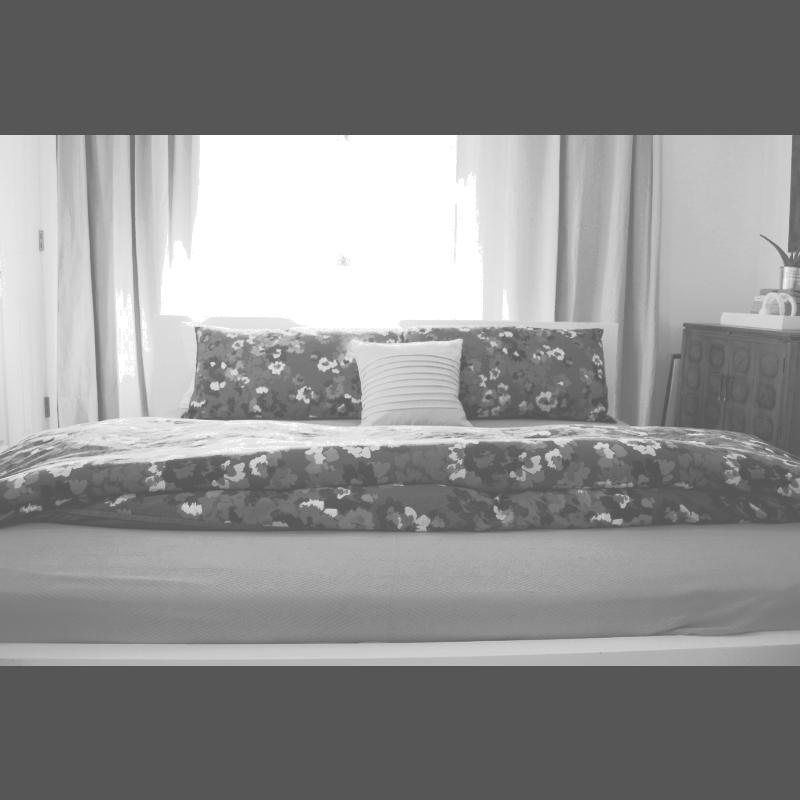pillow: (397, 322, 614, 428), (169, 324, 365, 426), (349, 339, 476, 425)
